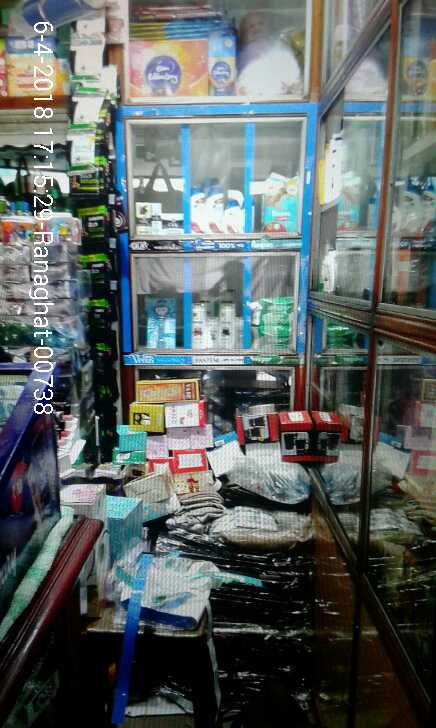venus: (148, 296, 177, 348)
